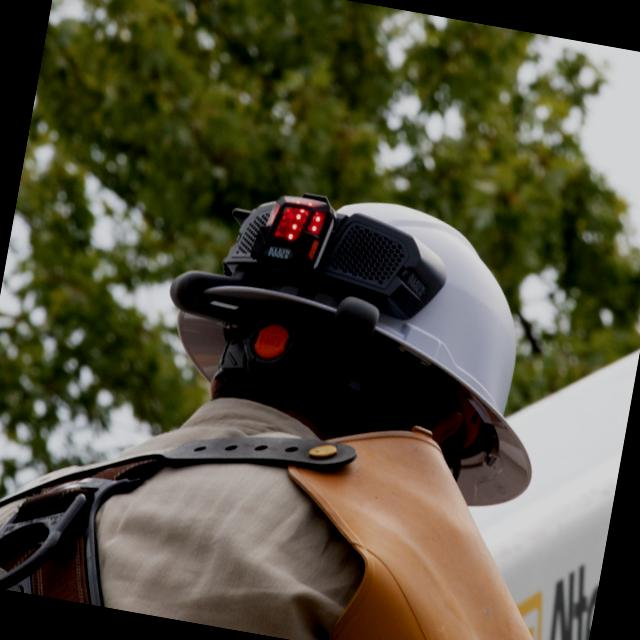helmet: (150, 125, 595, 478)
